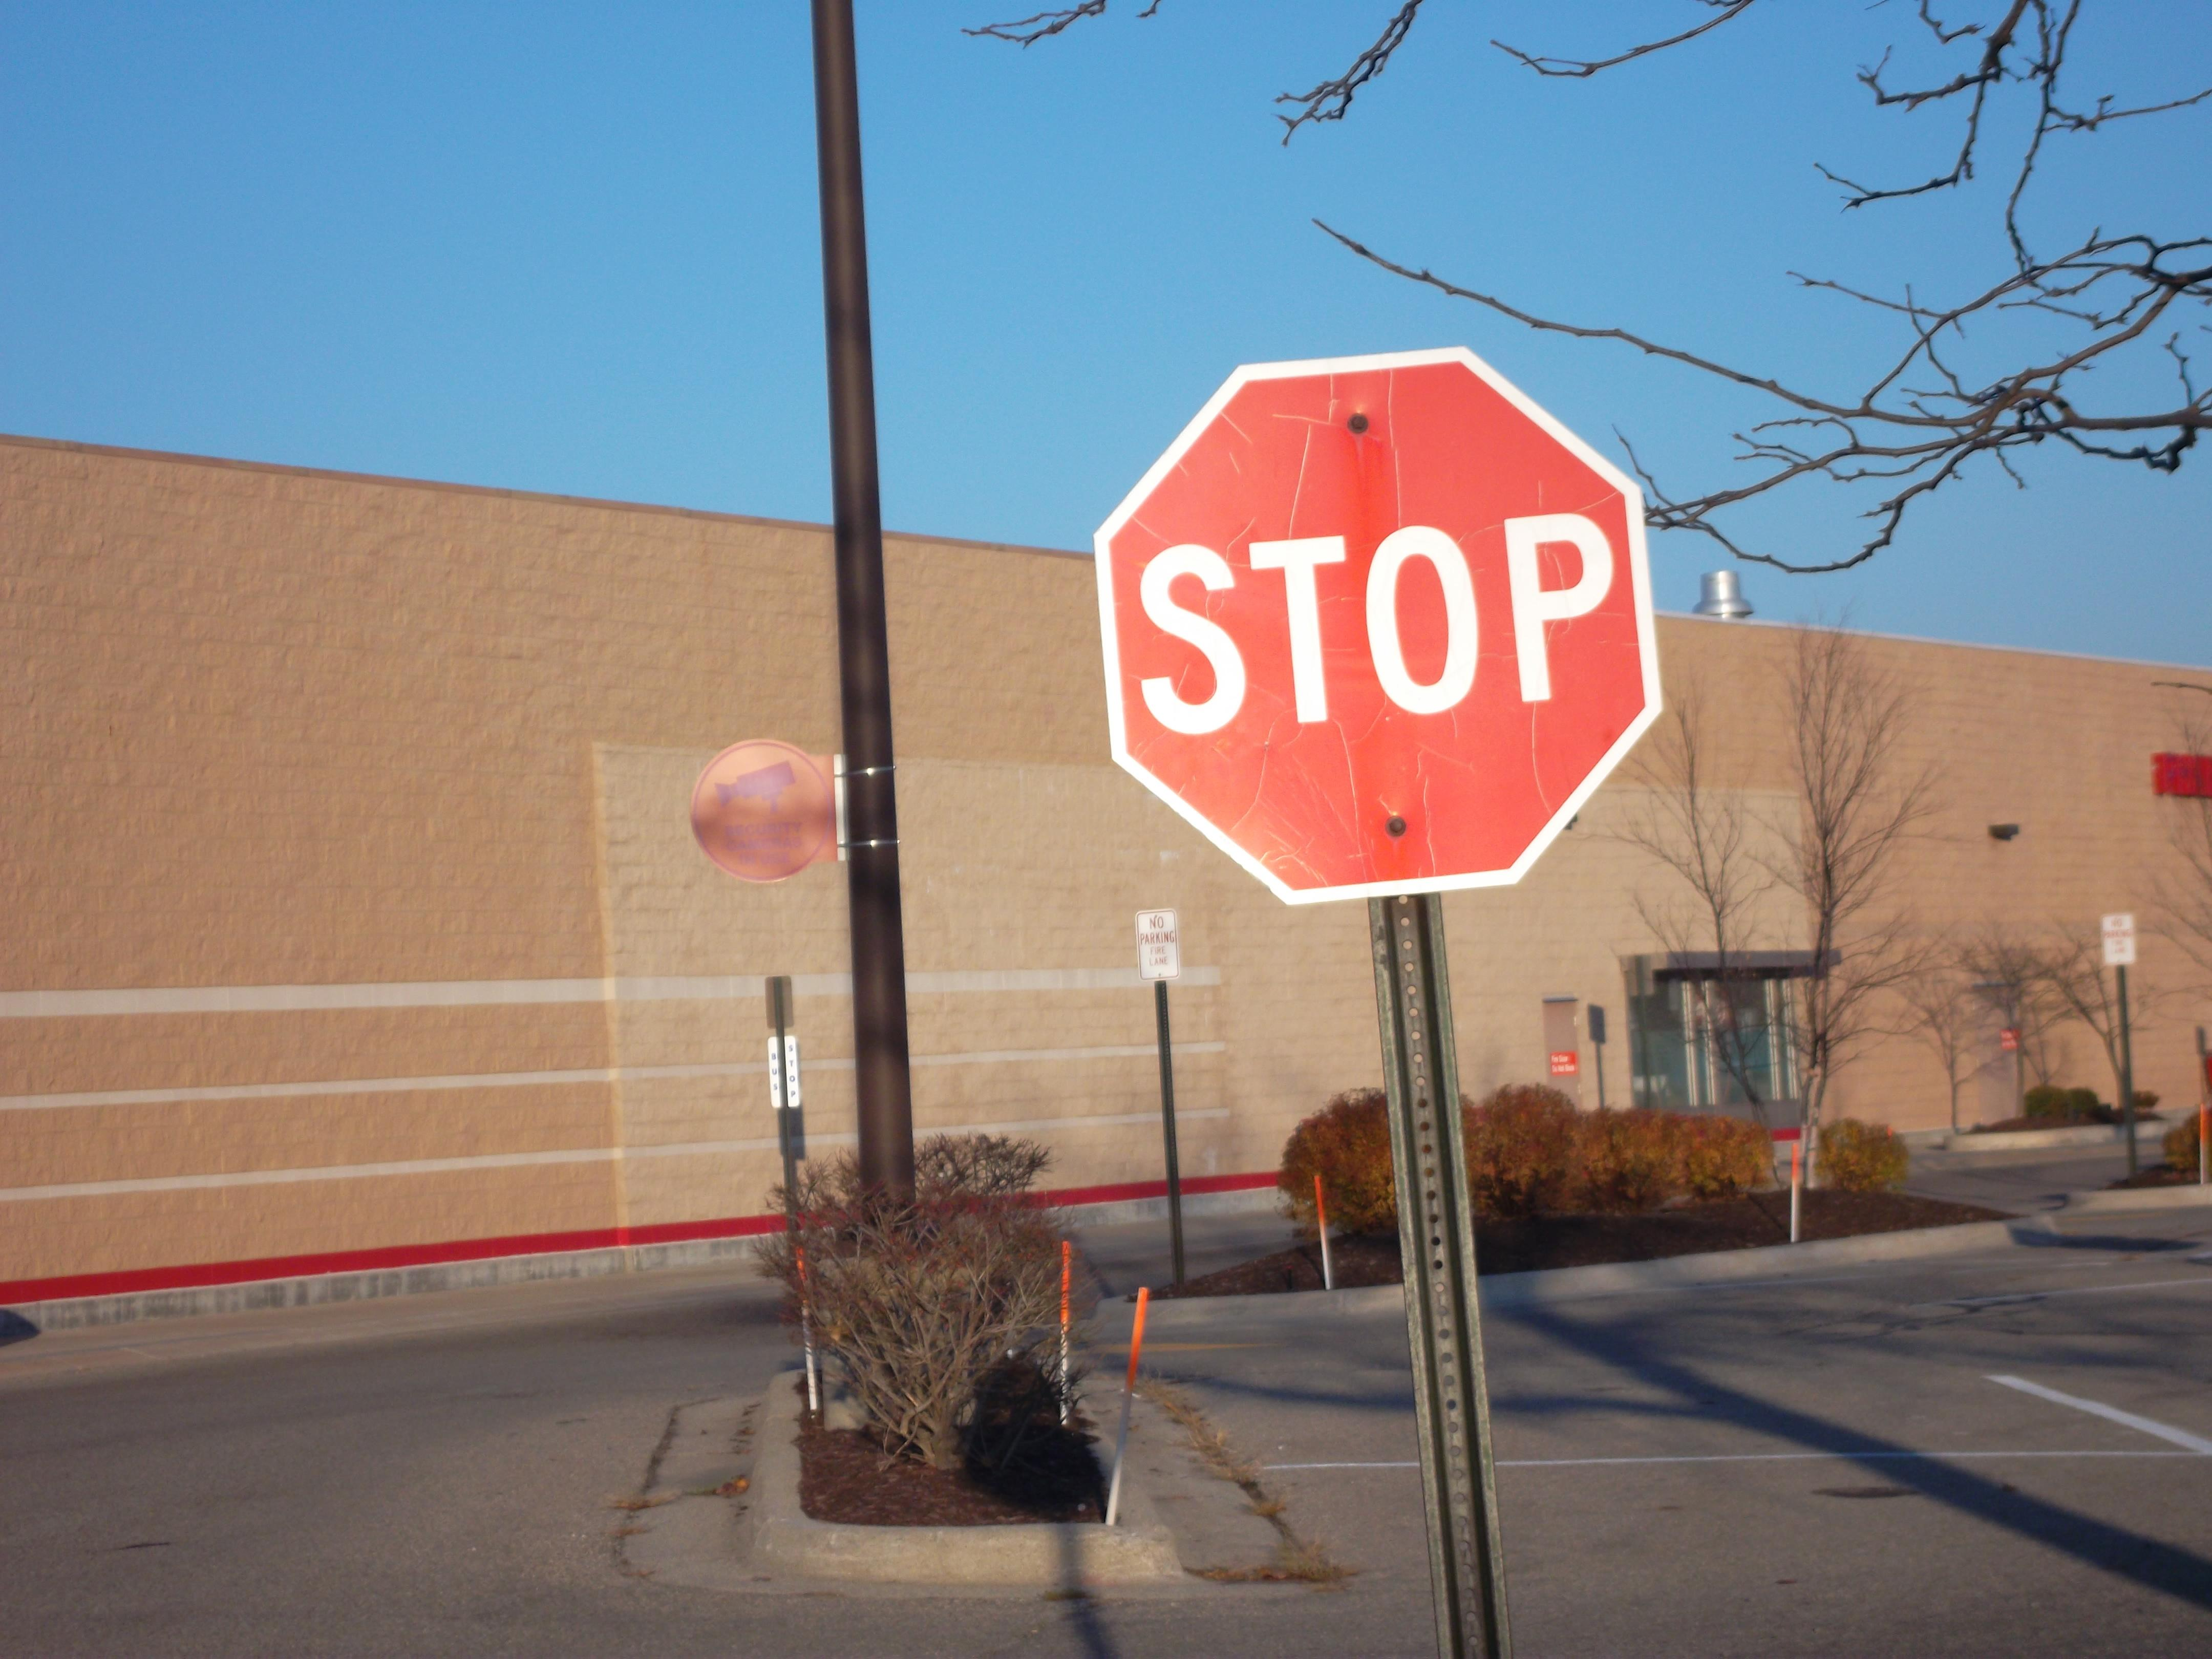stop: (1097, 340, 1663, 913)
